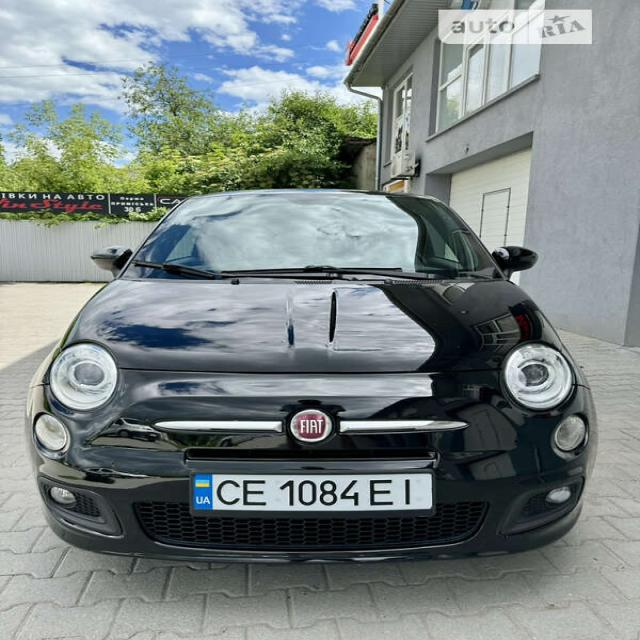plate: (185, 463, 446, 525)
